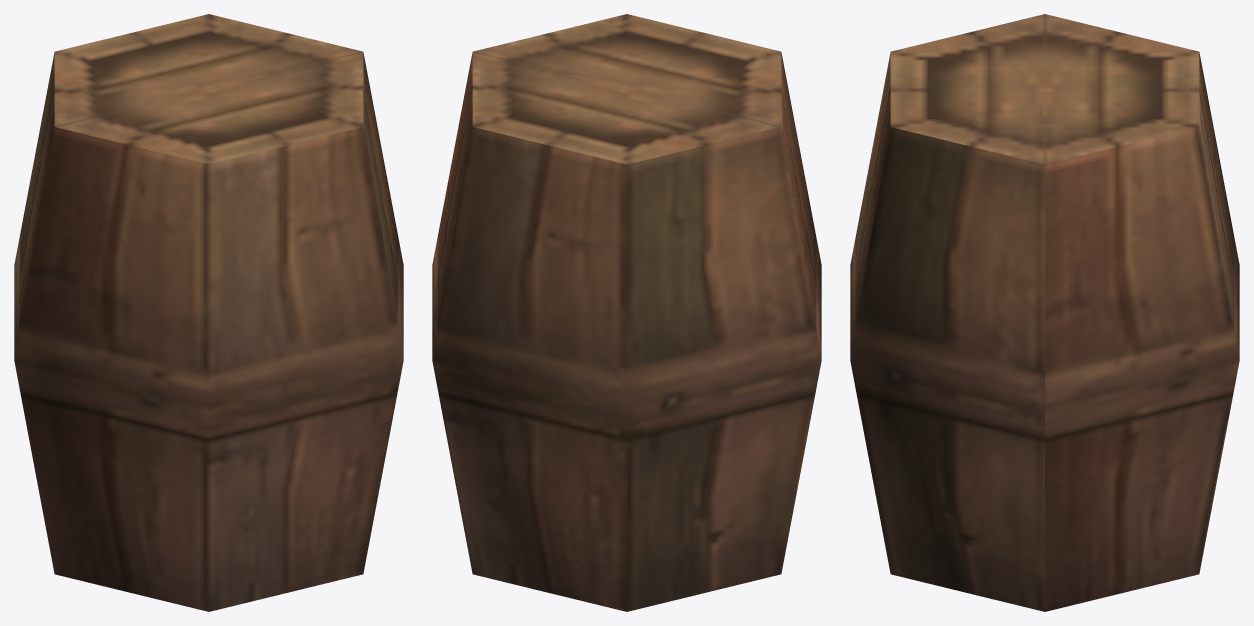
The model's file is common_city_mutong01.FBX.
3 views of the same model, side by side, from view 1: azimuth 30°, elevation 25°; view 2: azimuth 150°, elevation 25°; view 3: azimuth 270°, elevation 25° (orthographic).
Parts seen in each view (by area): view 1: common_city_mutong01; view 2: common_city_mutong01; view 3: common_city_mutong01.
Part boxes in pixels (left/top/right/bottom): common_city_mutong01: left=14, top=14, right=403, bottom=611; common_city_mutong01: left=432, top=14, right=821, bottom=611; common_city_mutong01: left=850, top=14, right=1239, bottom=611.
Size of the model in its own units: 120 by 131 by 104.
